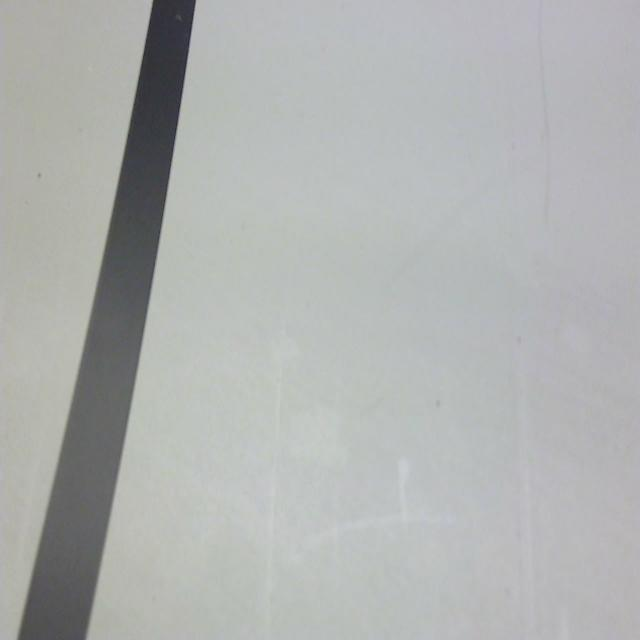tape: (4, 0, 210, 640)
